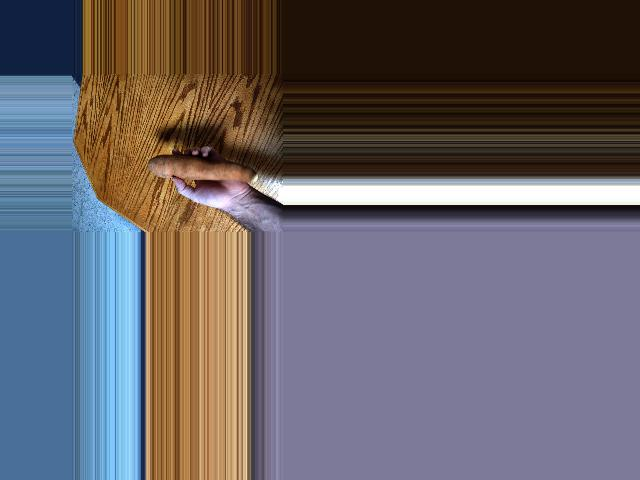sweet_potato: (143, 147, 253, 180)
